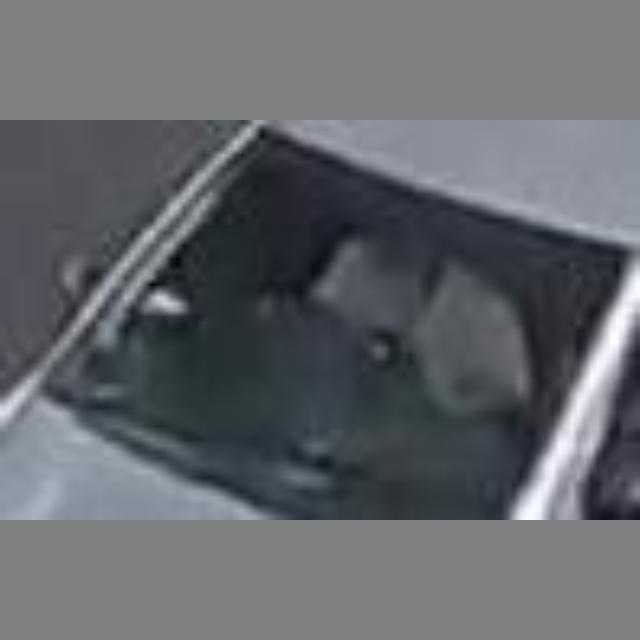tidak-pakai: (265, 178, 491, 424)
